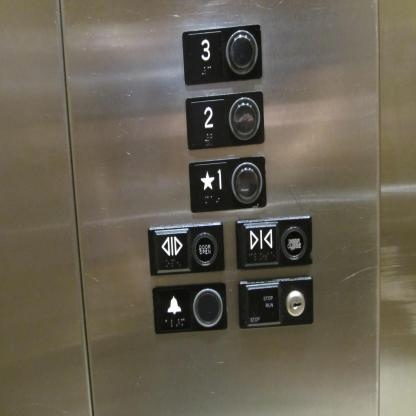2: (183, 89, 266, 151)
3: (180, 22, 263, 86)
alarm: (151, 279, 229, 335)
close: (234, 212, 315, 271)
open: (145, 219, 226, 278)
s1: (187, 152, 268, 214)
text: (237, 273, 316, 331)
